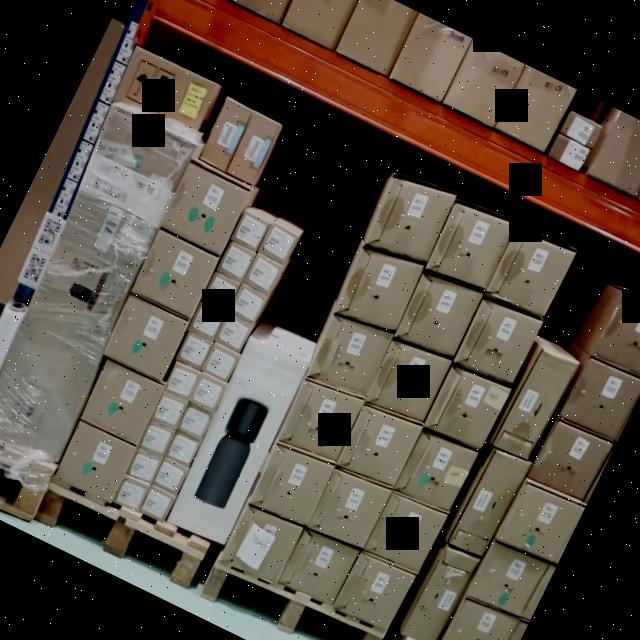box: (166, 341, 306, 543), (449, 446, 530, 560), (113, 49, 218, 136), (160, 160, 250, 254), (455, 294, 542, 387), (336, 242, 422, 334), (498, 351, 572, 457), (396, 270, 481, 362), (130, 231, 218, 318), (337, 401, 421, 490), (394, 426, 478, 514), (103, 296, 188, 382), (429, 201, 514, 286), (489, 228, 573, 314), (218, 502, 302, 586), (528, 418, 612, 502), (279, 377, 362, 462), (80, 361, 164, 444), (368, 176, 452, 259), (559, 356, 640, 440), (498, 480, 580, 562), (334, 550, 414, 632), (53, 424, 134, 504), (426, 367, 506, 448), (278, 526, 356, 606), (309, 318, 388, 396), (251, 446, 330, 524), (369, 343, 448, 419), (406, 550, 472, 640), (366, 496, 442, 572), (310, 471, 386, 546), (469, 542, 542, 614), (198, 98, 252, 170), (596, 294, 640, 376), (227, 114, 279, 183), (444, 601, 512, 640), (227, 288, 264, 326), (218, 243, 255, 281), (176, 332, 213, 370), (232, 214, 268, 252), (260, 225, 296, 263), (244, 258, 280, 295), (190, 374, 226, 411), (138, 422, 174, 458), (203, 344, 238, 380), (140, 486, 175, 522), (203, 274, 238, 310), (166, 362, 201, 398), (152, 391, 187, 427), (112, 478, 147, 514), (189, 304, 223, 340), (177, 406, 211, 440), (154, 459, 188, 493), (216, 318, 248, 352), (126, 452, 160, 484), (165, 434, 198, 466)
